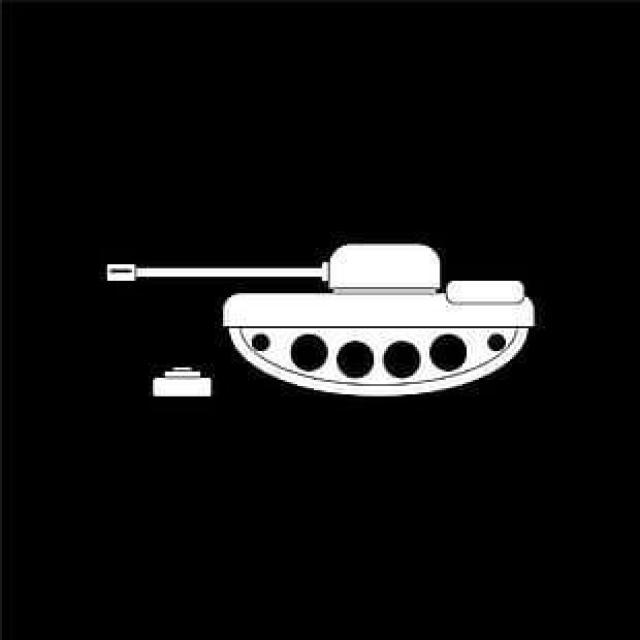MIL_MBT: (95, 213, 539, 411)
